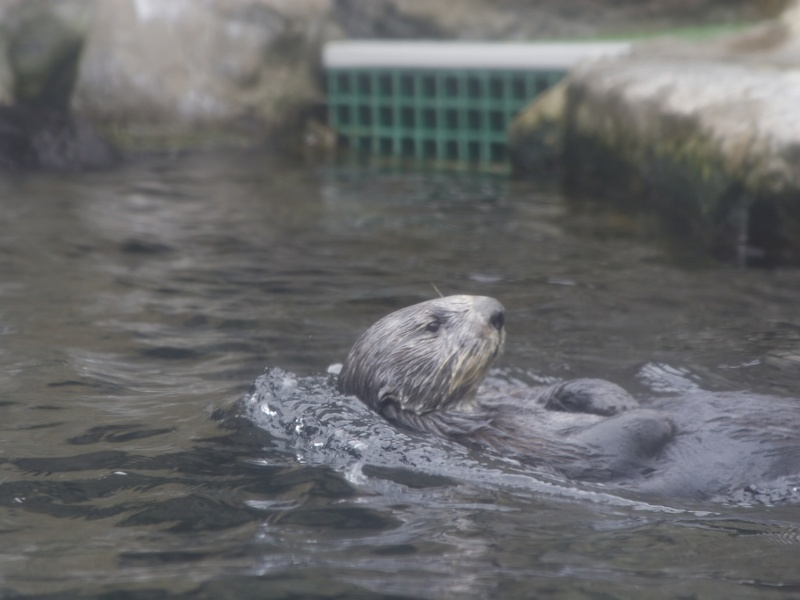minkish: (315, 289, 787, 512)
